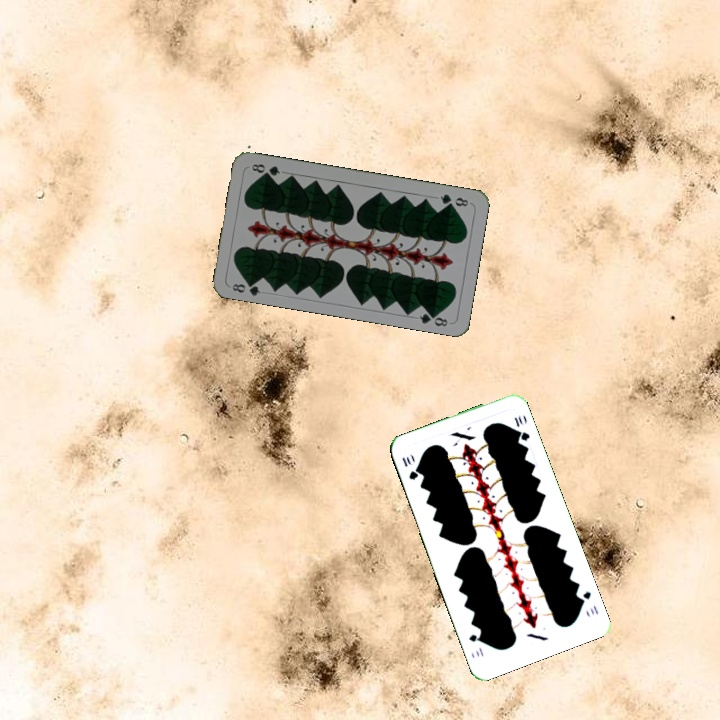G10: (575, 587, 601, 618), (398, 453, 421, 482)
G8: (228, 277, 263, 298), (436, 190, 473, 209)
